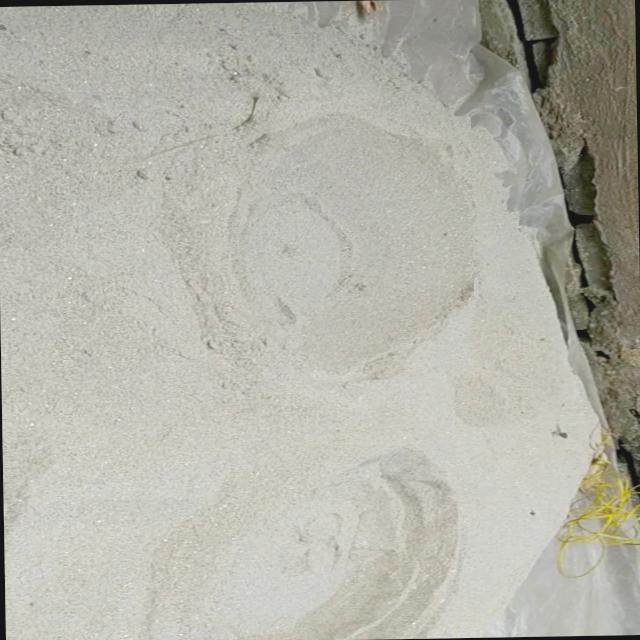C20: (236, 121, 473, 379), (240, 448, 458, 640)
